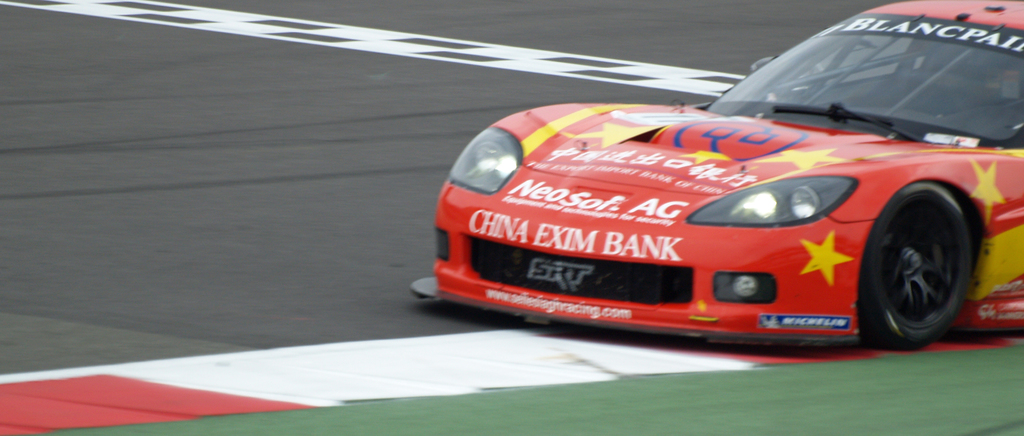Car: (411, 0, 1023, 355)
